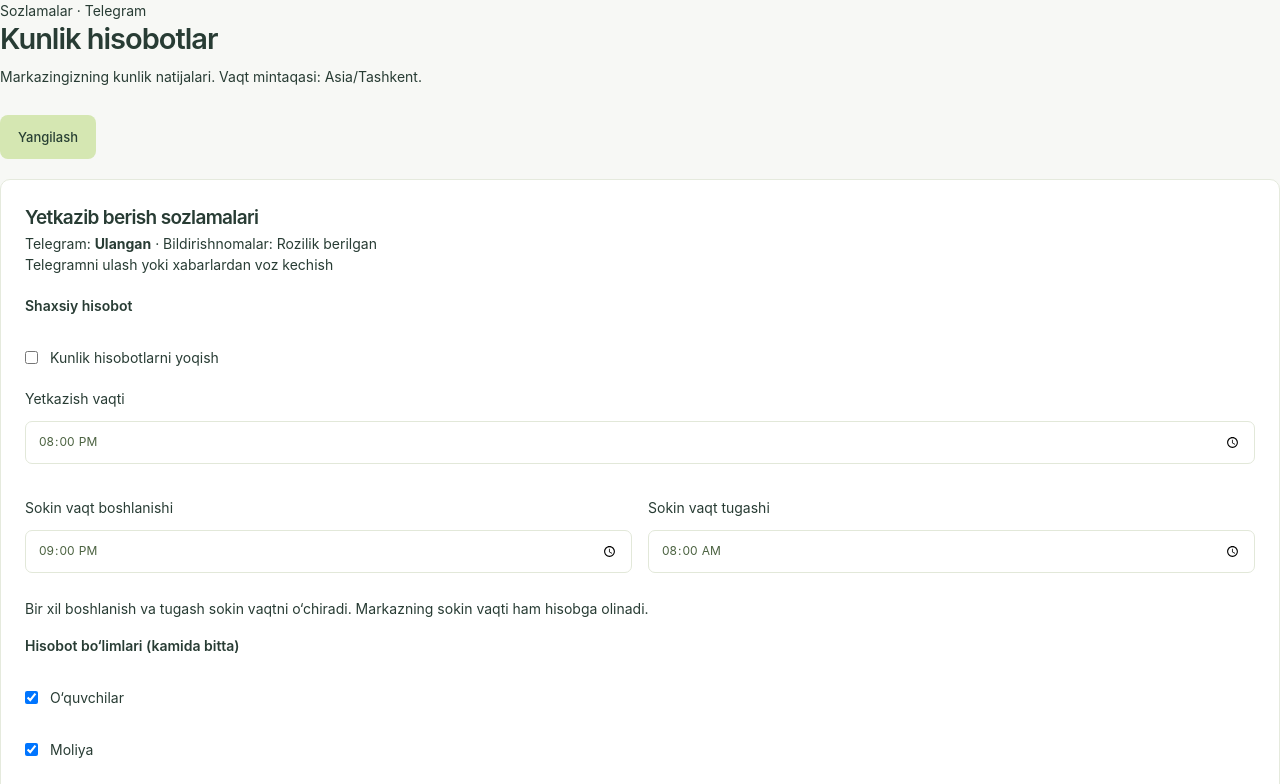
Scenario: saves owner preferences, previews saved report and enqueues a test
Click the switch labelled "Kunlik hisobotlarni yoqish" at {"x": 32, "y": 358}, box [25,351,38,364]
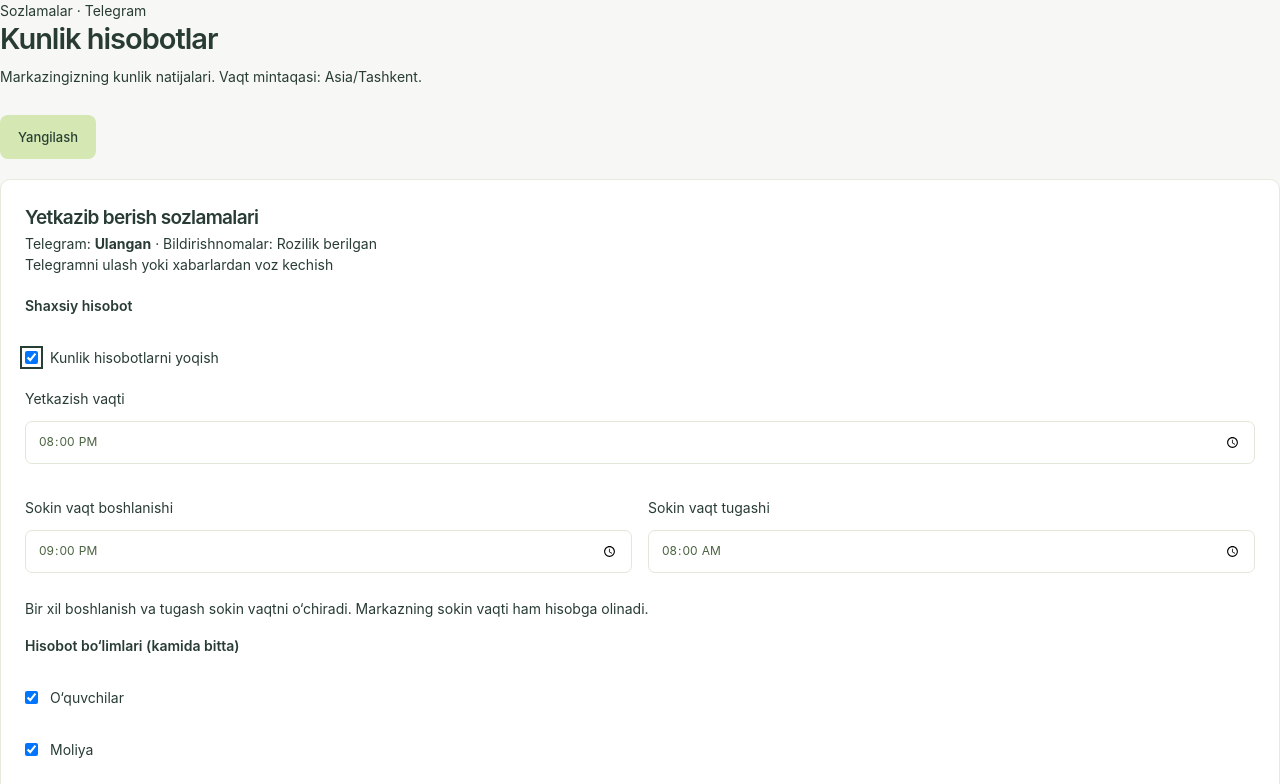
Click the checkbox labelled "Moliya" at {"x": 32, "y": 750}, box [25,743,38,756]
(page scrolled)
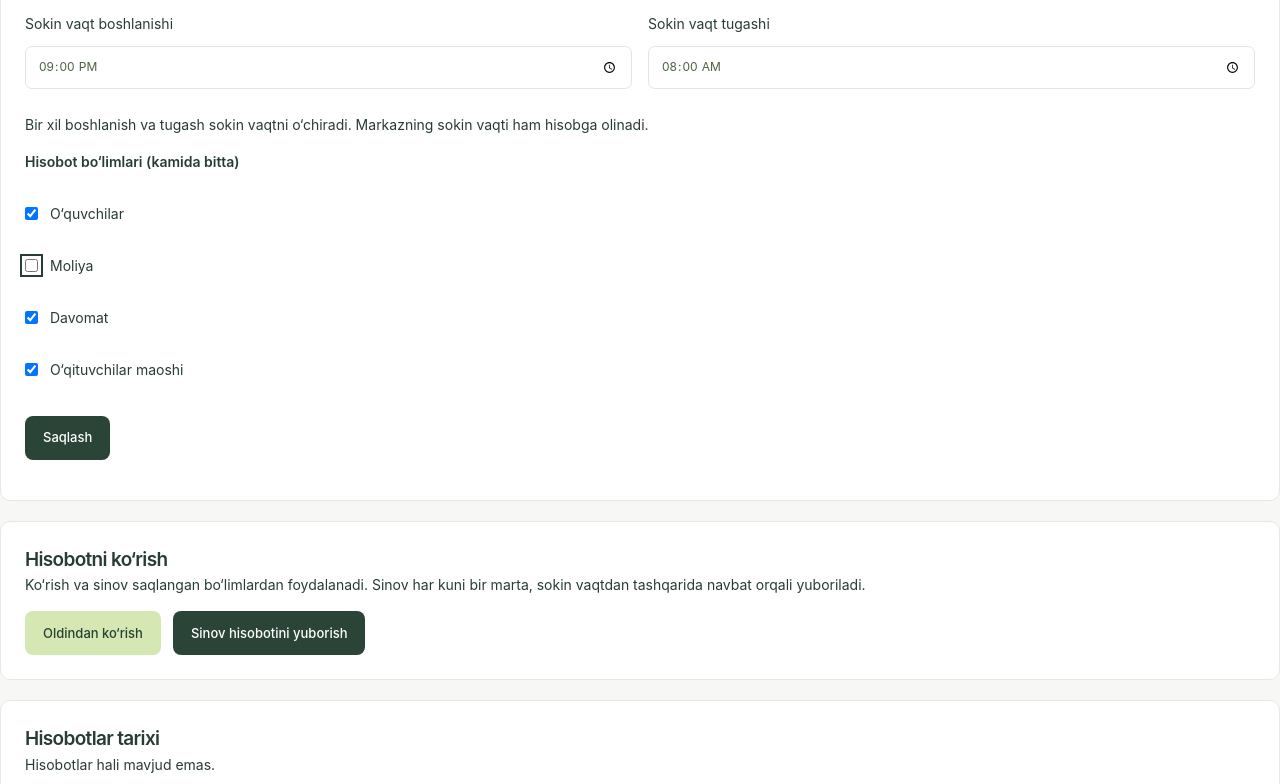
Click the button "Saqlash" at {"x": 68, "y": 438}, box [25,416,110,460]
(page scrolled)
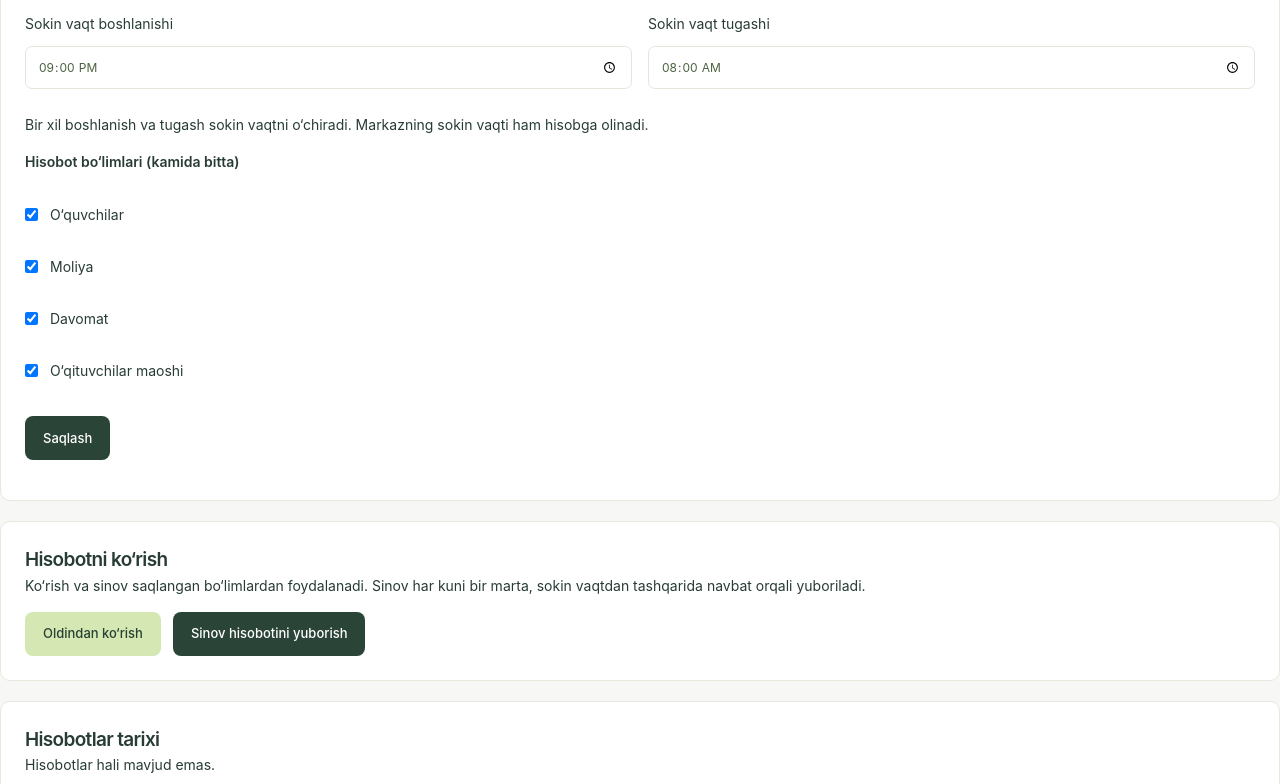
Click the button "Oldindan ko‘rish" at {"x": 93, "y": 634}, box [25,612,161,656]
(page scrolled)
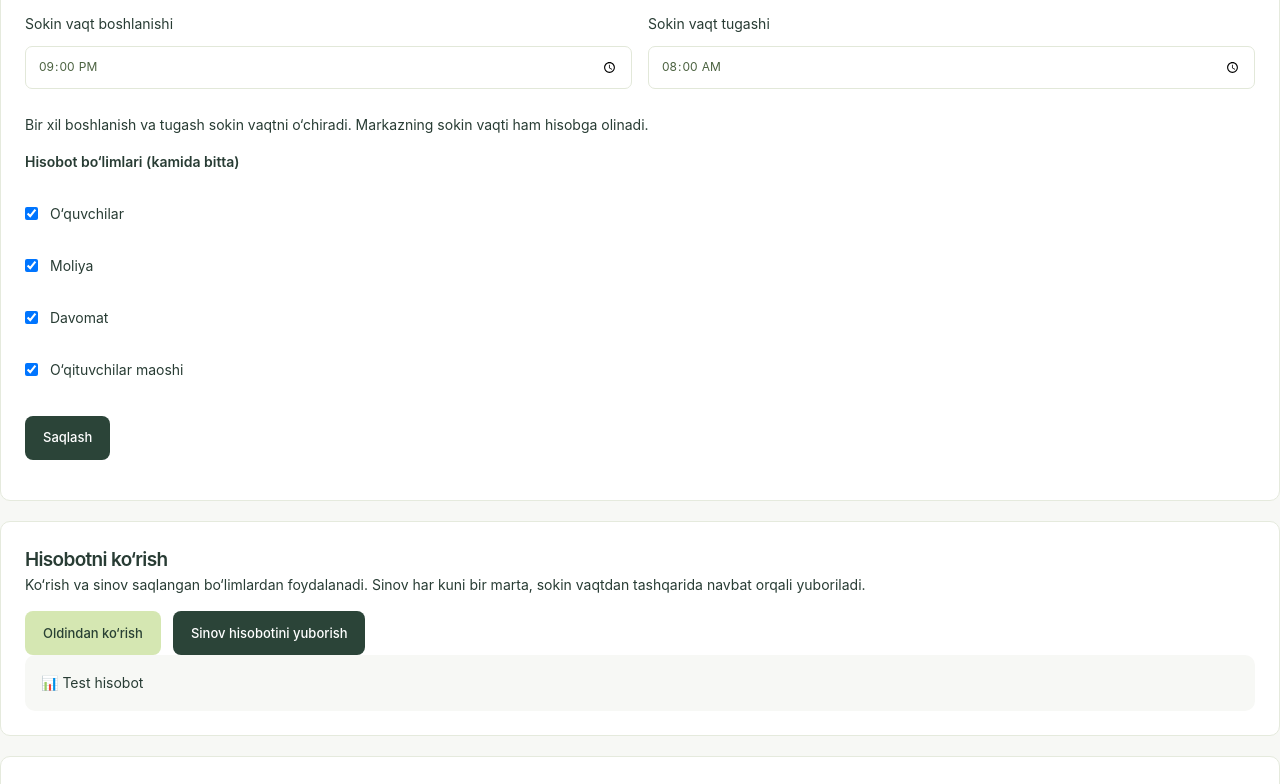
Result: the text named "Hisobot matni" shows "Test hisobot" at [41,674,143,691]
Click the button "Sinov hisobotini yuborish" at {"x": 269, "y": 633}, box [173,611,365,655]
(page scrolled)
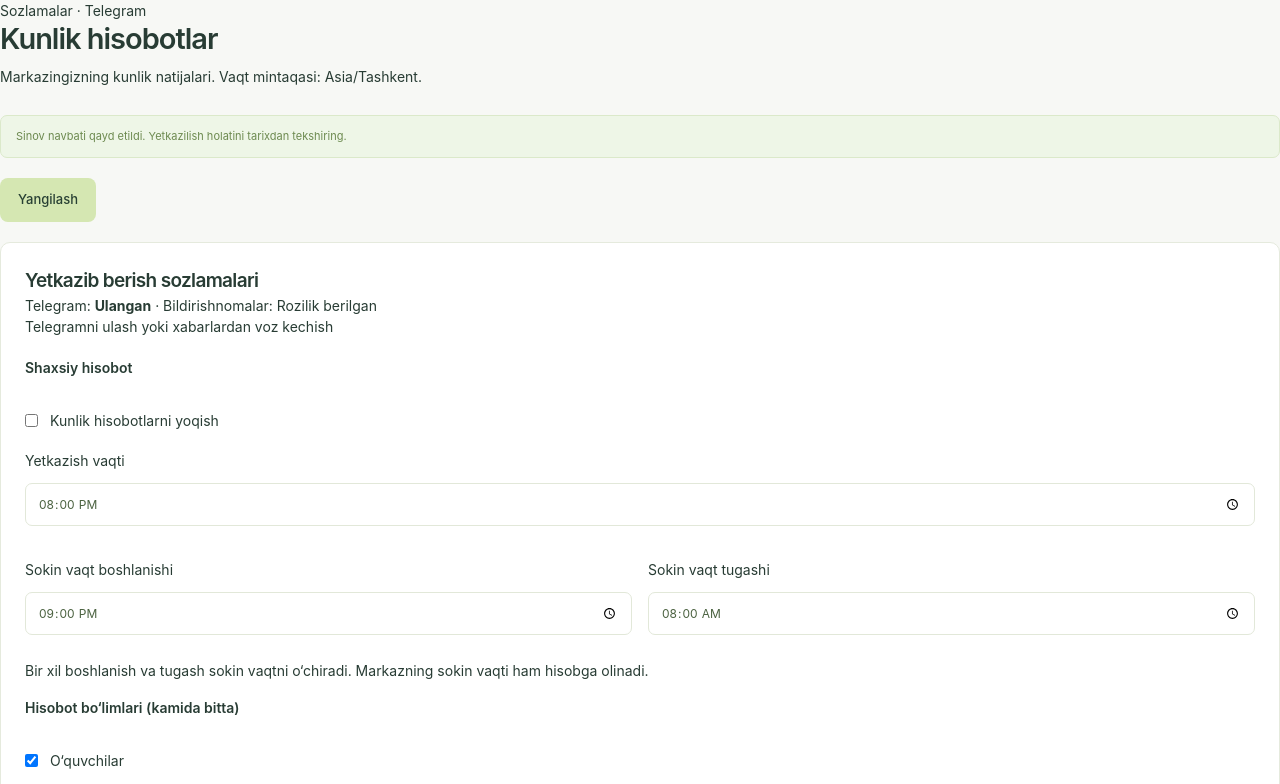
Result: the text "Sinov navbati qayd etildi. Yetkazilish holatini tarixdan tekshiring." is shown at [0,115,1279,158]
